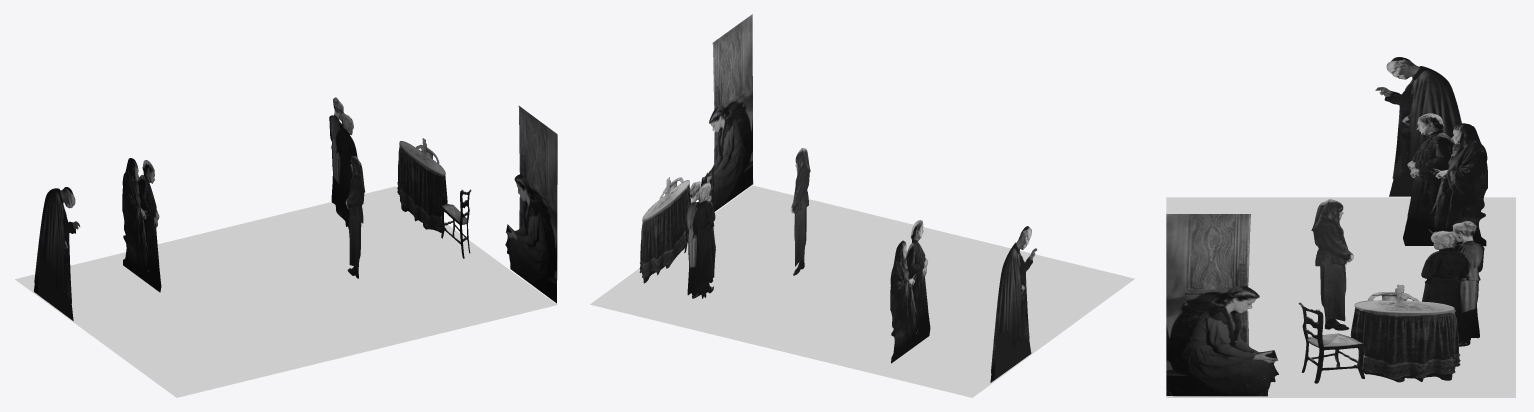
The picture shows the model from 3 angles, left to right: view 1: azimuth 30°, elevation 25°; view 2: azimuth 150°, elevation 25°; view 3: azimuth 270°, elevation 25°; orthographic projection. The views are drawn at different scales.
Visible parts, largest first — view 1: 7 Terra, 1 noia asseguda, 2 Taula, 6 Mossen, 5 dones fons, 3 dones primeres, 4 dona sola; view 2: 7 Terra, 1 noia asseguda, 6 Mossen, 5 dones fons, 2 Taula, 3 dones primeres, 4 dona sola; view 3: 7 Terra, 1 noia asseguda, 2 Taula, 5 dones fons, 6 Mossen, 3 dones primeres, 4 dona sola.
Part boxes in pixels (x1,y1,x2,y2): 7 Terra: (15, 186, 557, 397); 1 noia asseguda: (505, 106, 557, 303); 2 Taula: (397, 138, 471, 258); 6 Mossen: (34, 187, 80, 320); 5 dones fons: (122, 158, 161, 292); 3 dones primeres: (329, 97, 357, 229); 4 dona sola: (345, 156, 365, 278); 7 Terra: (590, 185, 1134, 397); 1 noia asseguda: (700, 14, 753, 211); 6 Mossen: (990, 226, 1037, 382); 5 dones fons: (890, 220, 930, 363); 2 Taula: (639, 160, 715, 283); 3 dones primeres: (685, 181, 715, 298); 4 dona sola: (790, 148, 810, 275); 7 Terra: (1166, 197, 1515, 397); 1 noia asseguda: (1166, 214, 1278, 396); 2 Taula: (1298, 284, 1460, 383); 5 dones fons: (1403, 113, 1487, 246); 6 Mossen: (1375, 57, 1461, 196); 3 dones primeres: (1421, 221, 1484, 346); 4 dona sola: (1311, 199, 1353, 330).
Size of the model in its own units: 19.5 by 8.3 by 14.47.
Materials: 6 (6 with a texture image).
